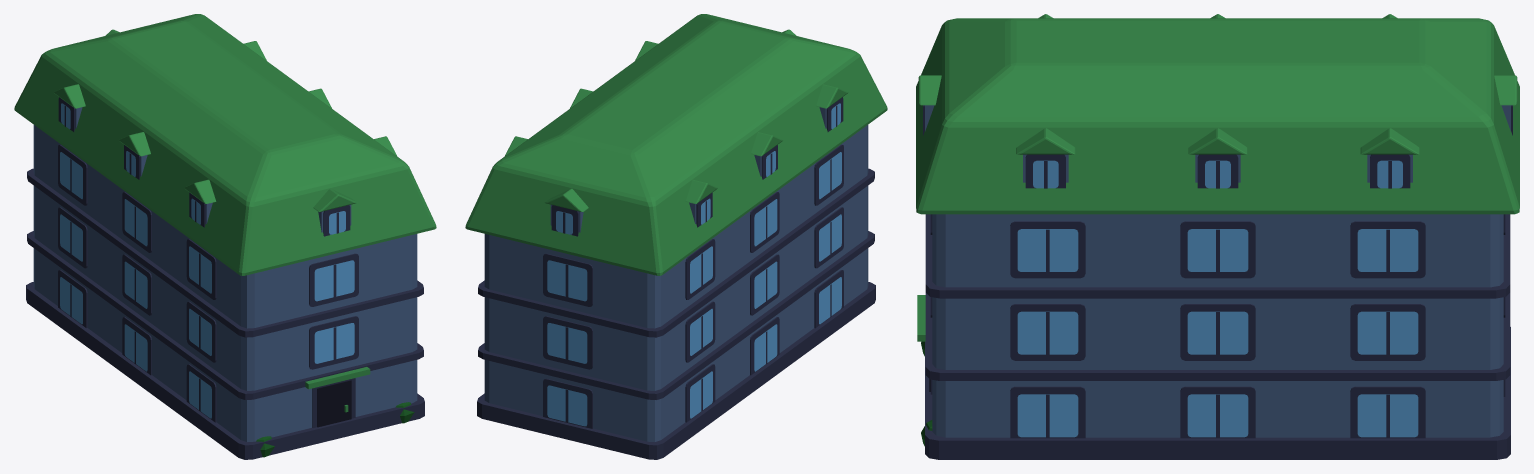
The model's file is house-1x2-3f-mansard-b.glb.
The picture shows the model from 3 angles, left to right: view 1: azimuth 30°, elevation 25°; view 2: azimuth 150°, elevation 25°; view 3: azimuth 270°, elevation 25°; orthographic projection. The views are drawn at different scales.
Parts seen in each view (by area): view 1: house-1x2-3f-mansard-b; view 2: house-1x2-3f-mansard-b; view 3: house-1x2-3f-mansard-b.
Boxes of the visible parts, left/top/right/bottom form: house-1x2-3f-mansard-b: left=14, top=14, right=436, bottom=459; house-1x2-3f-mansard-b: left=465, top=14, right=887, bottom=459; house-1x2-3f-mansard-b: left=916, top=14, right=1519, bottom=459.
Bounding box in the file's own units: 0.9876 × 1.3 × 1.99.
Materials: 1 (1 with a texture image).
